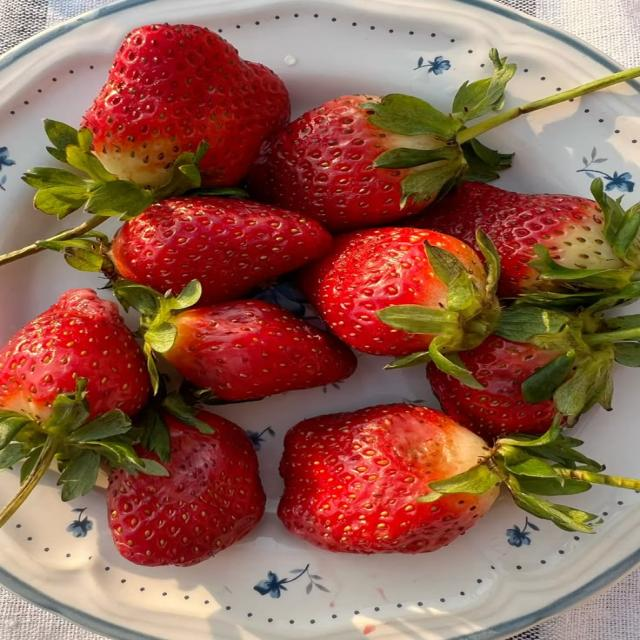strawberry: (248, 49, 619, 232), (278, 404, 639, 553), (0, 290, 164, 525), (83, 24, 290, 185), (278, 404, 498, 553), (427, 307, 639, 441), (300, 228, 499, 364), (249, 96, 441, 232), (412, 181, 639, 296), (139, 286, 356, 401), (107, 412, 265, 566), (112, 196, 331, 304), (0, 290, 150, 422), (427, 336, 563, 442)
